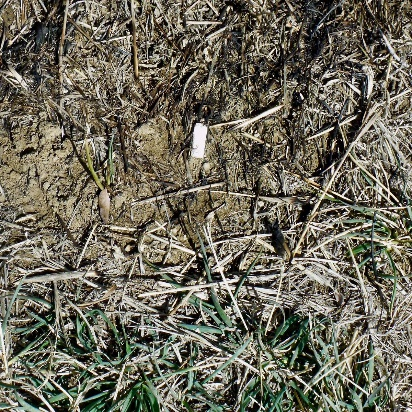cigarette: (182, 111, 210, 166)
